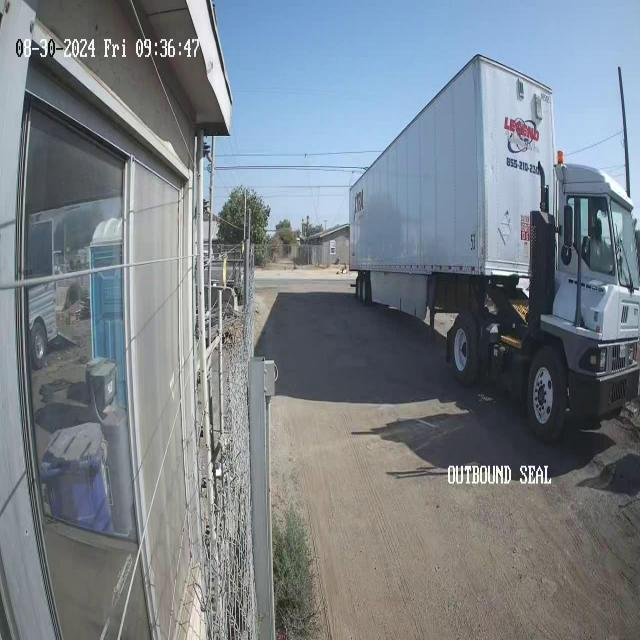CONTAINER: (348, 53, 560, 274)
